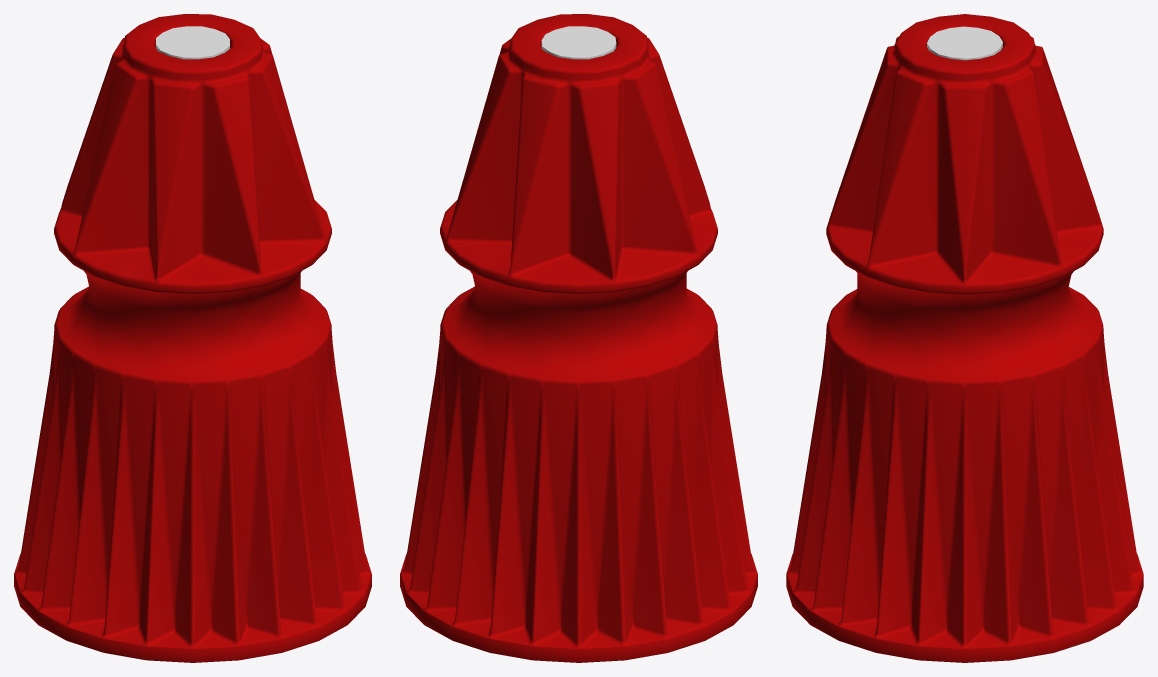
File: Model - Plastic - Star - 1.1875in.fbx
3 views of the same model, side by side, from view 1: azimuth 30°, elevation 25°; view 2: azimuth 150°, elevation 25°; view 3: azimuth 270°, elevation 25° (orthographic).
Parts seen in each view (by area): view 1: Post - Plastic - Star - 1 3/16"; view 2: Post - Plastic - Star - 1 3/16"; view 3: Post - Plastic - Star - 1 3/16".
Part boxes in pixels (x1,y1,x2,y2): Post - Plastic - Star - 1 3/16": (14,14,371,662); Post - Plastic - Star - 1 3/16": (400,14,757,662); Post - Plastic - Star - 1 3/16": (786,14,1143,662).
Size of the model in its own units: 1.79 by 3.02 by 1.79.
